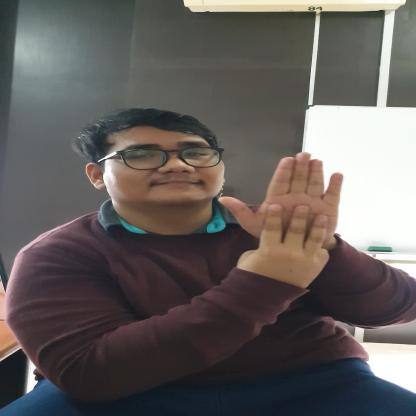M: (216, 150, 348, 265)
